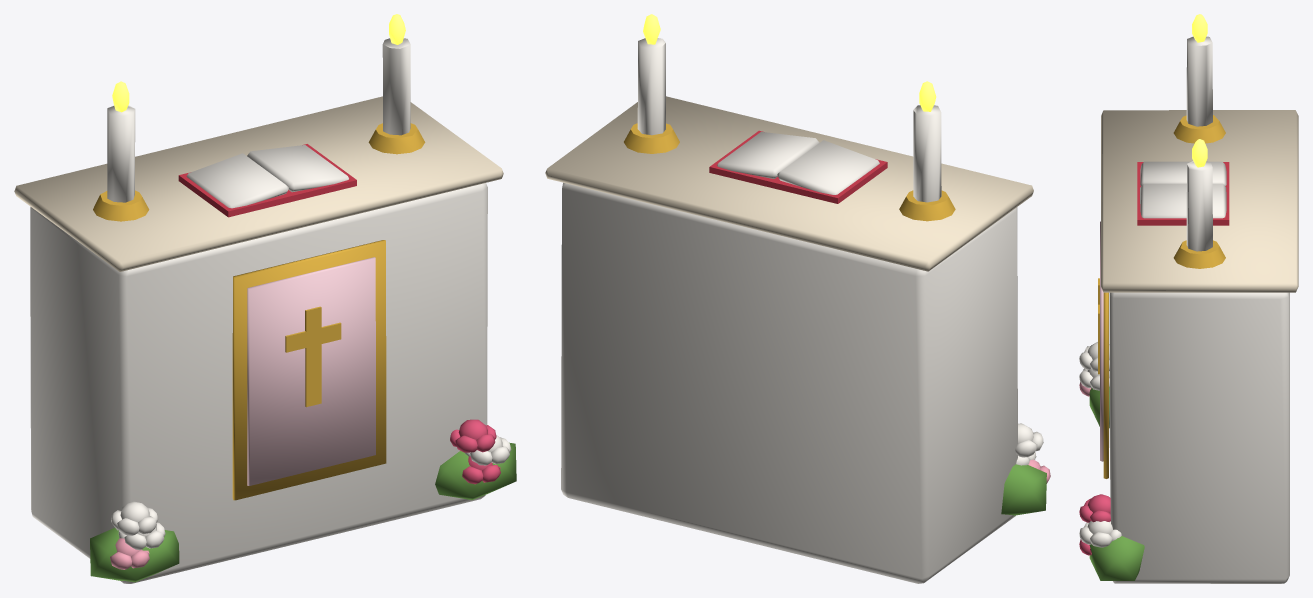
Rendered from altar.glb.
3 renders of one model, left to right at view 1: azimuth 30°, elevation 25°; view 2: azimuth 150°, elevation 25°; view 3: azimuth 270°, elevation 25°, orthographic. The views are drawn at different scales.
Parts seen in each view (by area): view 1: Altar; view 2: Altar; view 3: Altar.
Boxes of the visible parts, x1,y1,x2,y2 form: Altar: (14, 14, 516, 583); Altar: (545, 14, 1050, 583); Altar: (1079, 14, 1298, 583).
Size of the model in its own units: 1.39 by 1.44 by 0.6678.
